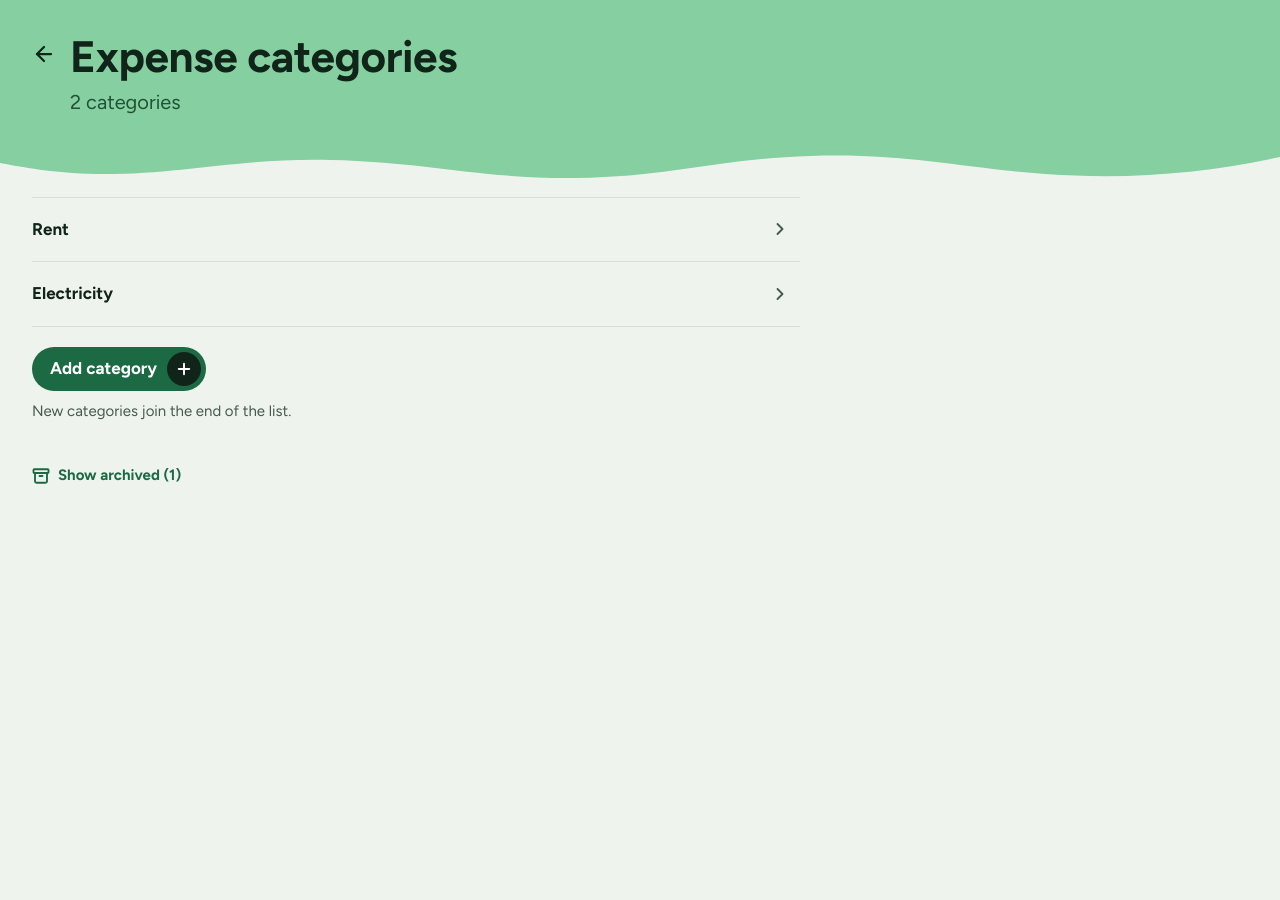
Test: ExpenseCategories (plan §9, D40, D81) › opens a category's sheet to rename it, and an empty one to add one
Click the button "Electricity" at [72, 293], box [32, 281, 758, 306]
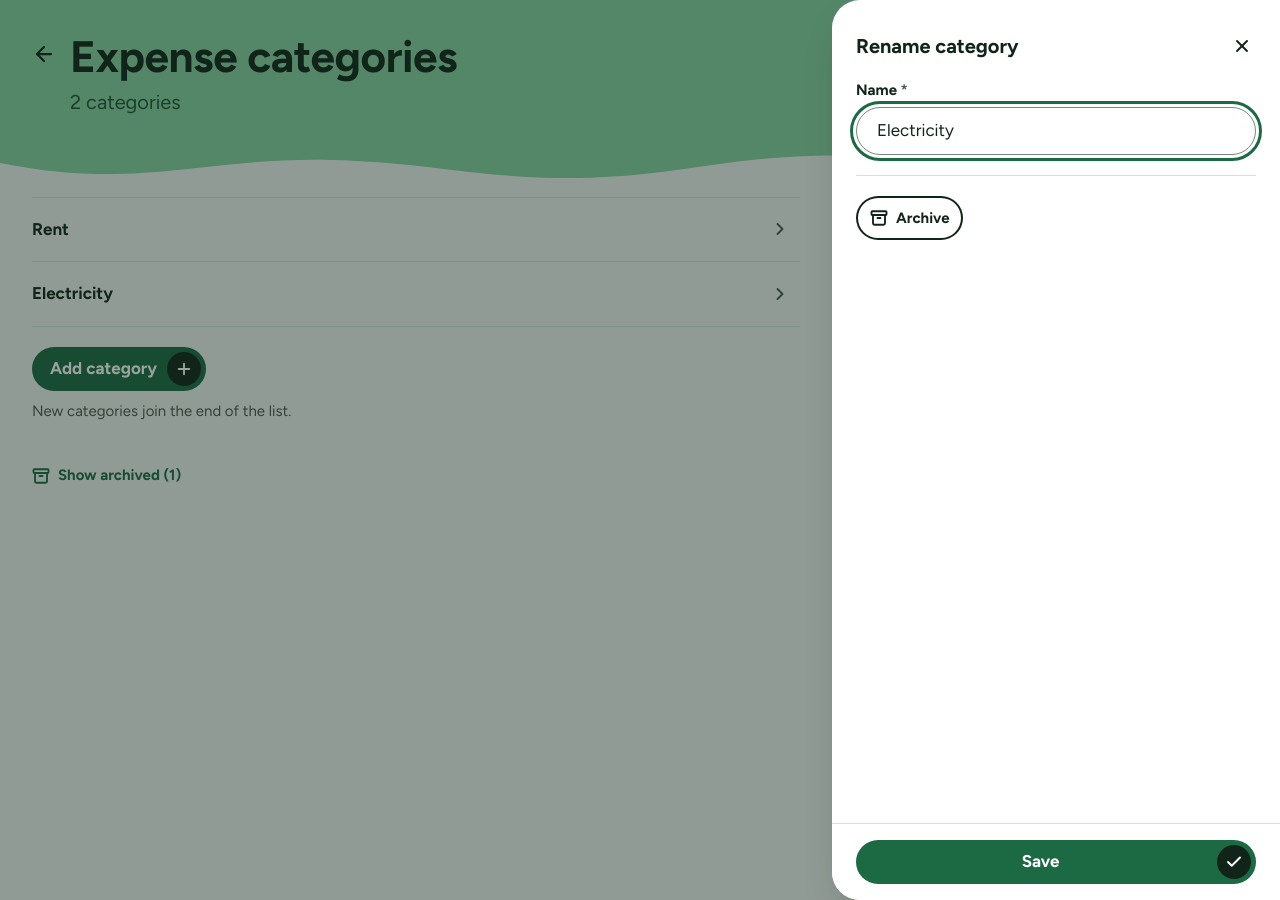
Result: the field labelled "Name *" holds "Electricity" at [856, 107, 1256, 155]
Click the button named "Close" at [1242, 46], box [1220, 24, 1264, 68]
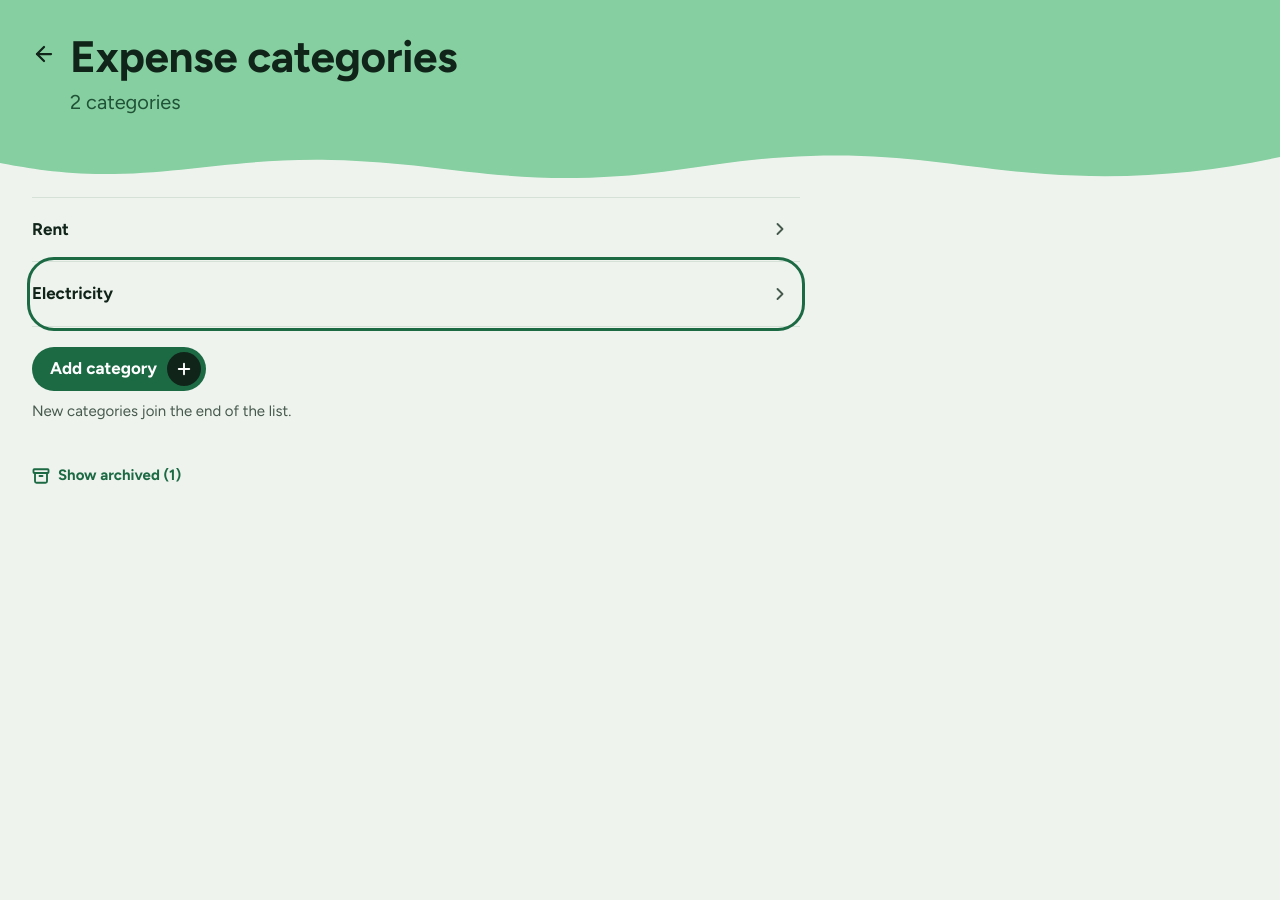
Click the button "Add category" at [119, 369], box [32, 347, 206, 391]
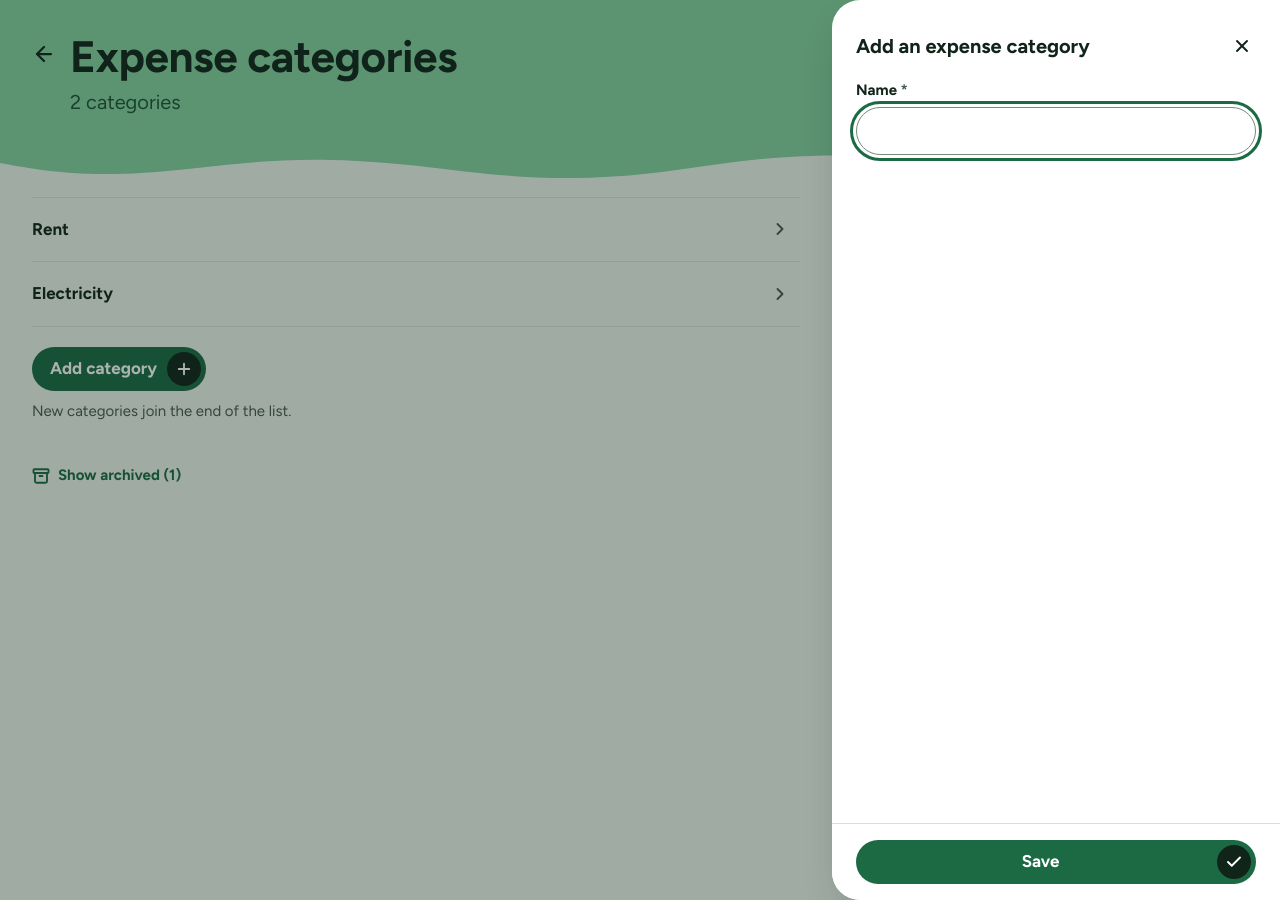
Result: the dialog "Add an expense category" is shown at [832, 0, 1279, 899]
